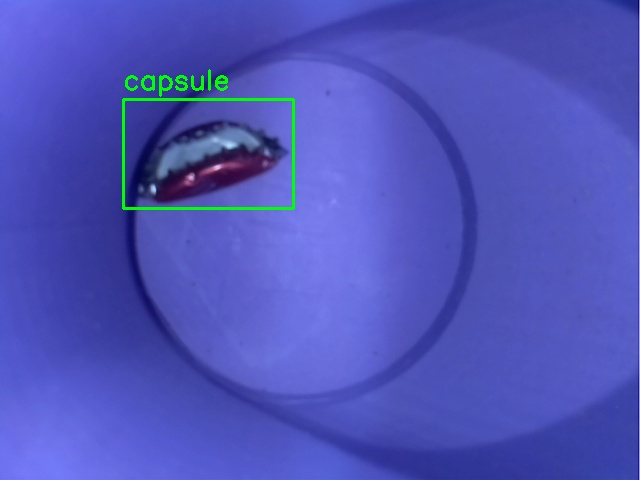capsule: (123, 99, 293, 208)
